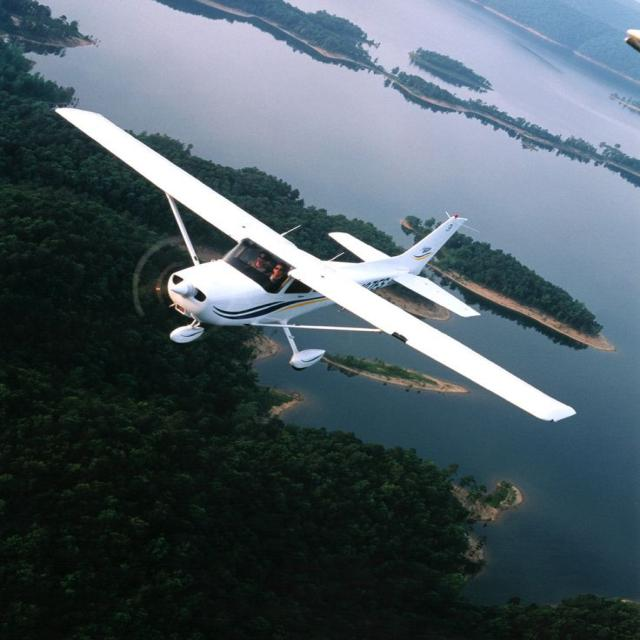iha: (50, 98, 585, 422)
